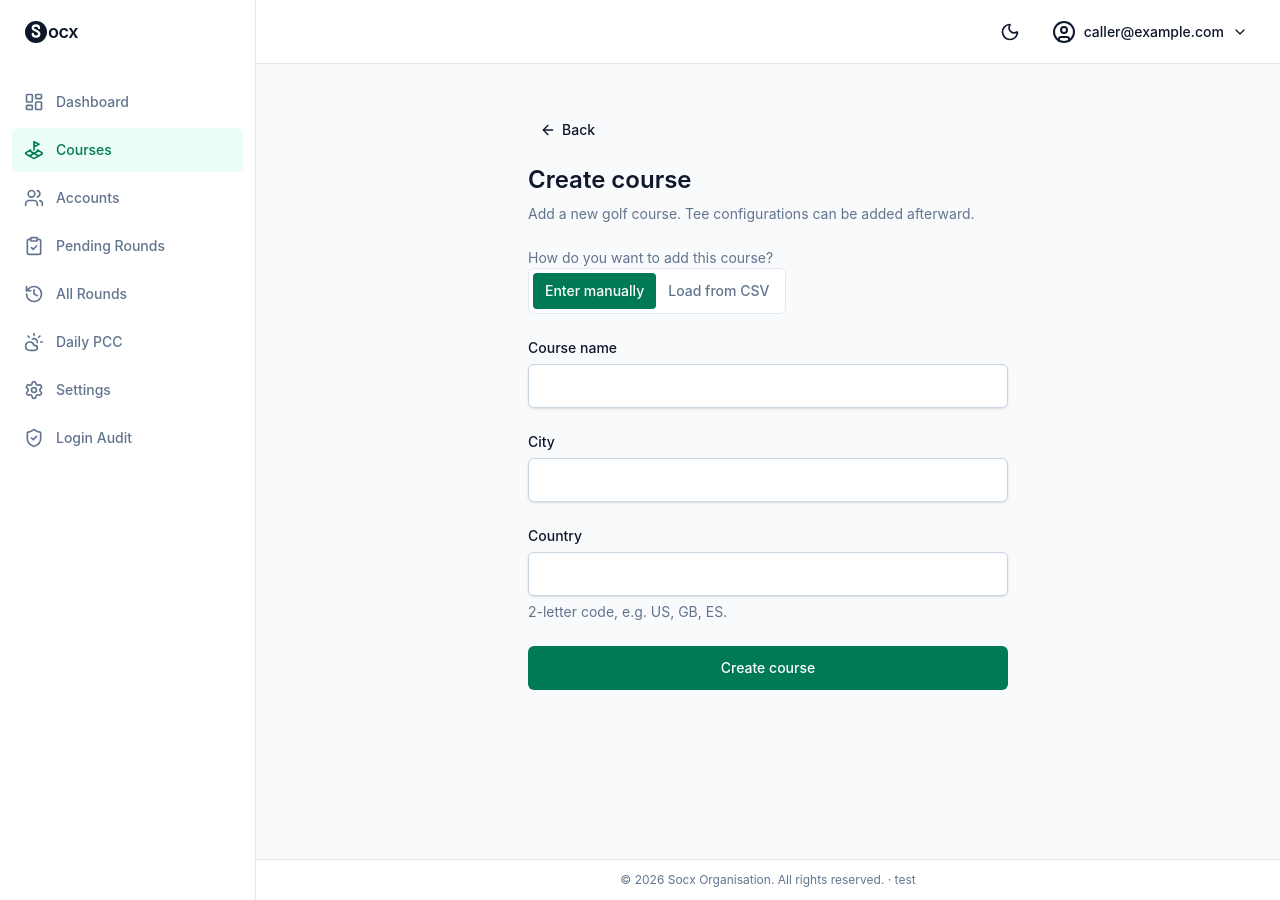
CreateCoursePage › creates a course and navigates to its detail page
The image size is (1280, 900).
Type "Test Course" into the field labelled "Course name" at (768, 386), box [528,364,1008,408]
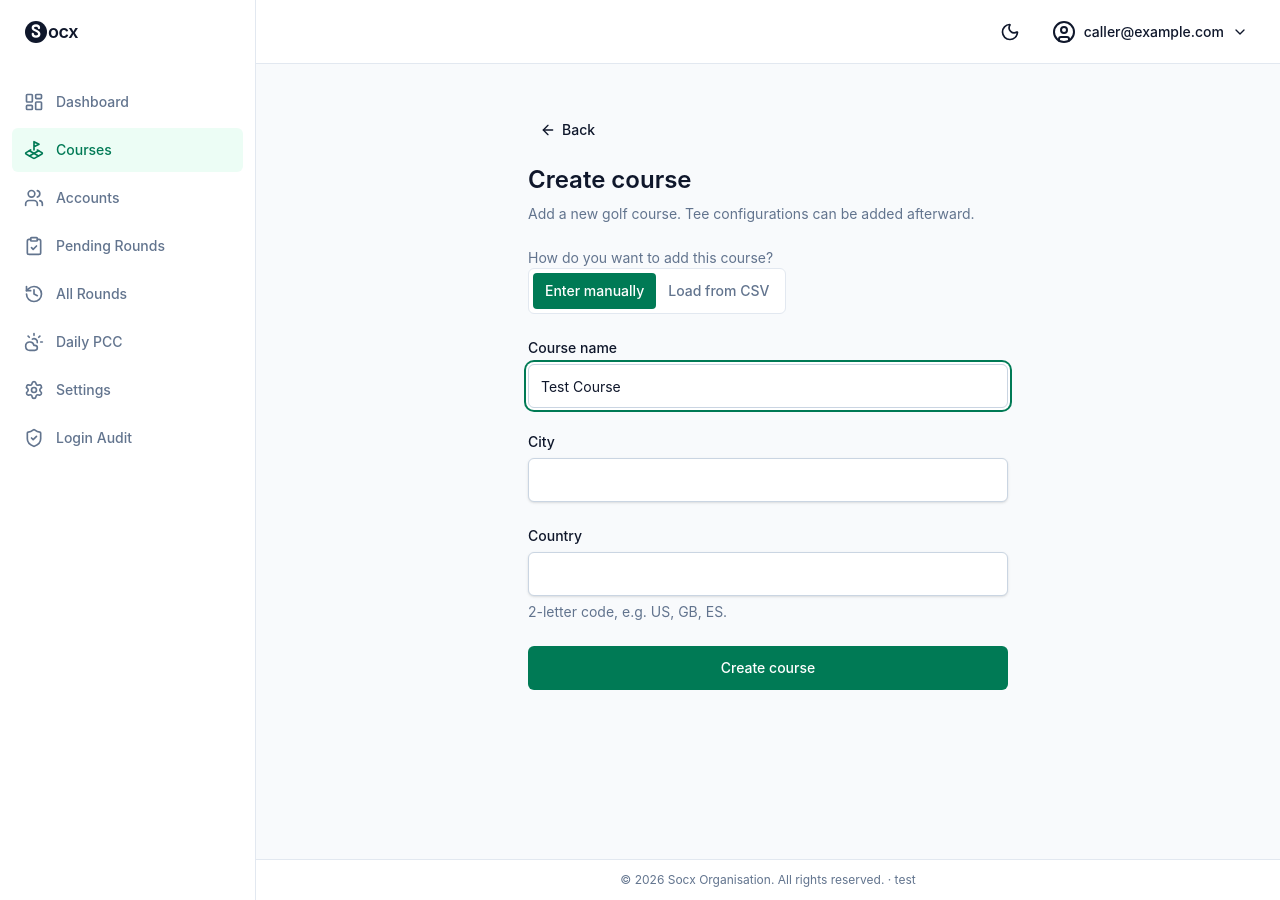
Type "Test City" into the field labelled "City" at (768, 480), box [528,458,1008,502]
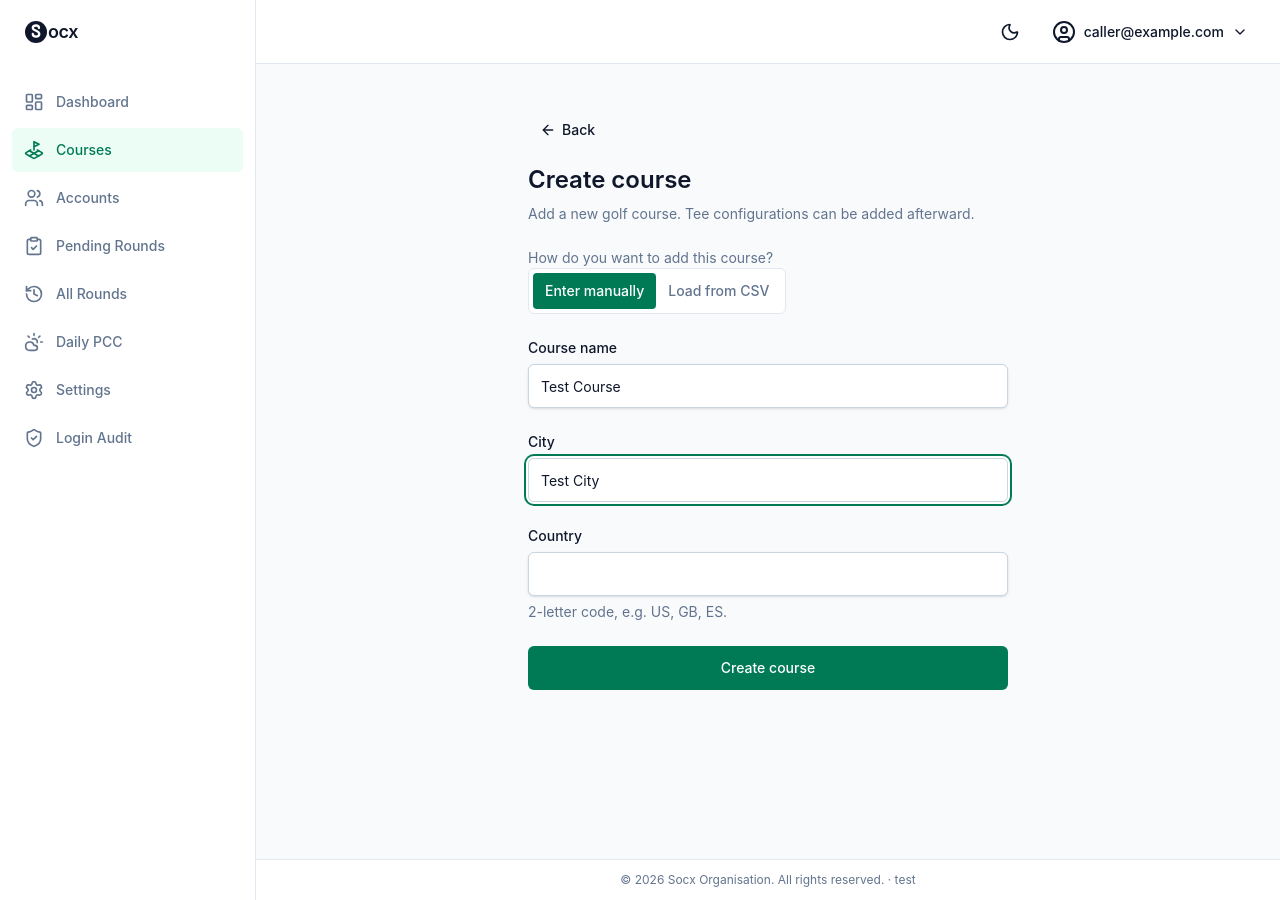
Type "us" into the field labelled "Country" at (768, 574), box [528,552,1008,596]
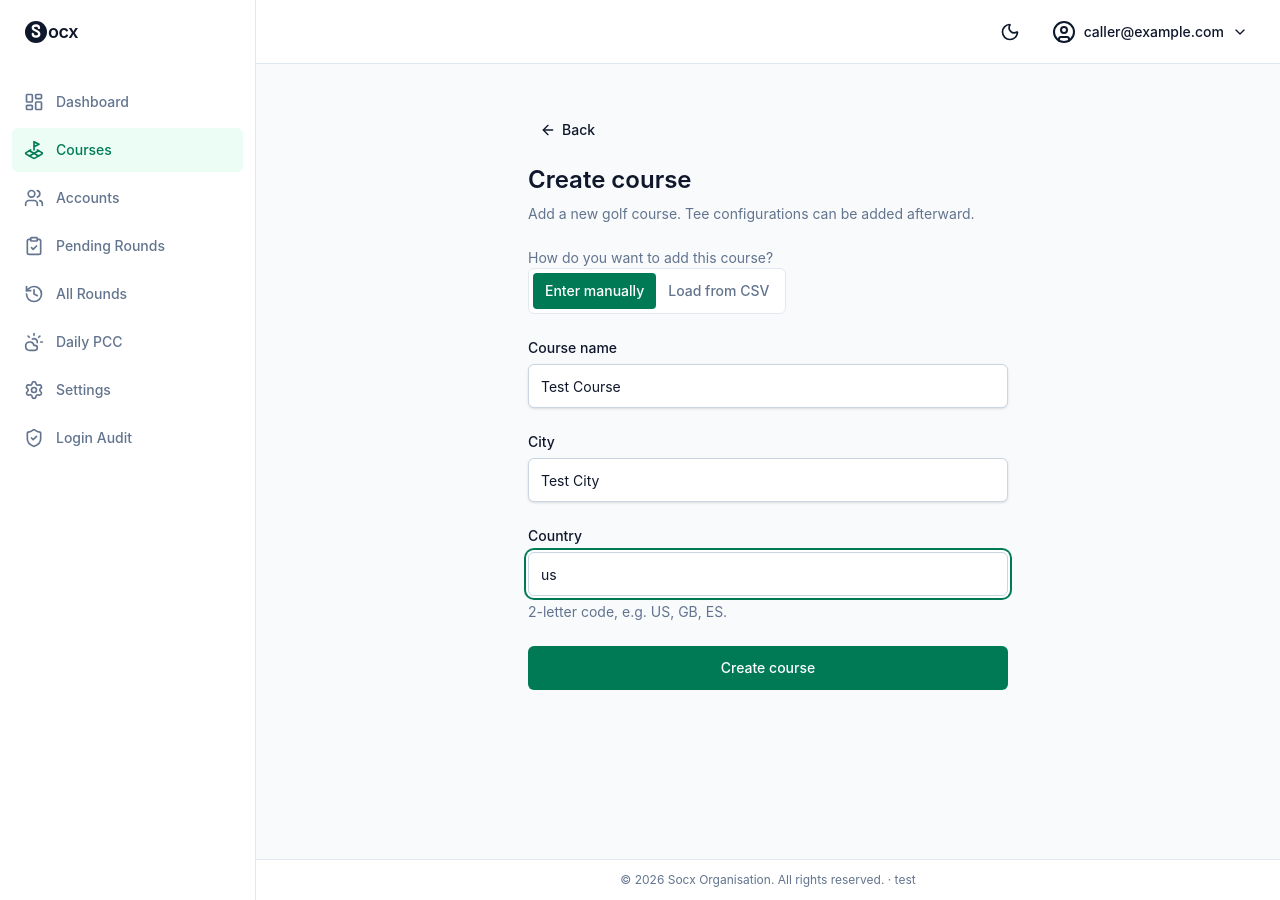
Click the button "Create course" at (768, 668), box [528,646,1008,690]
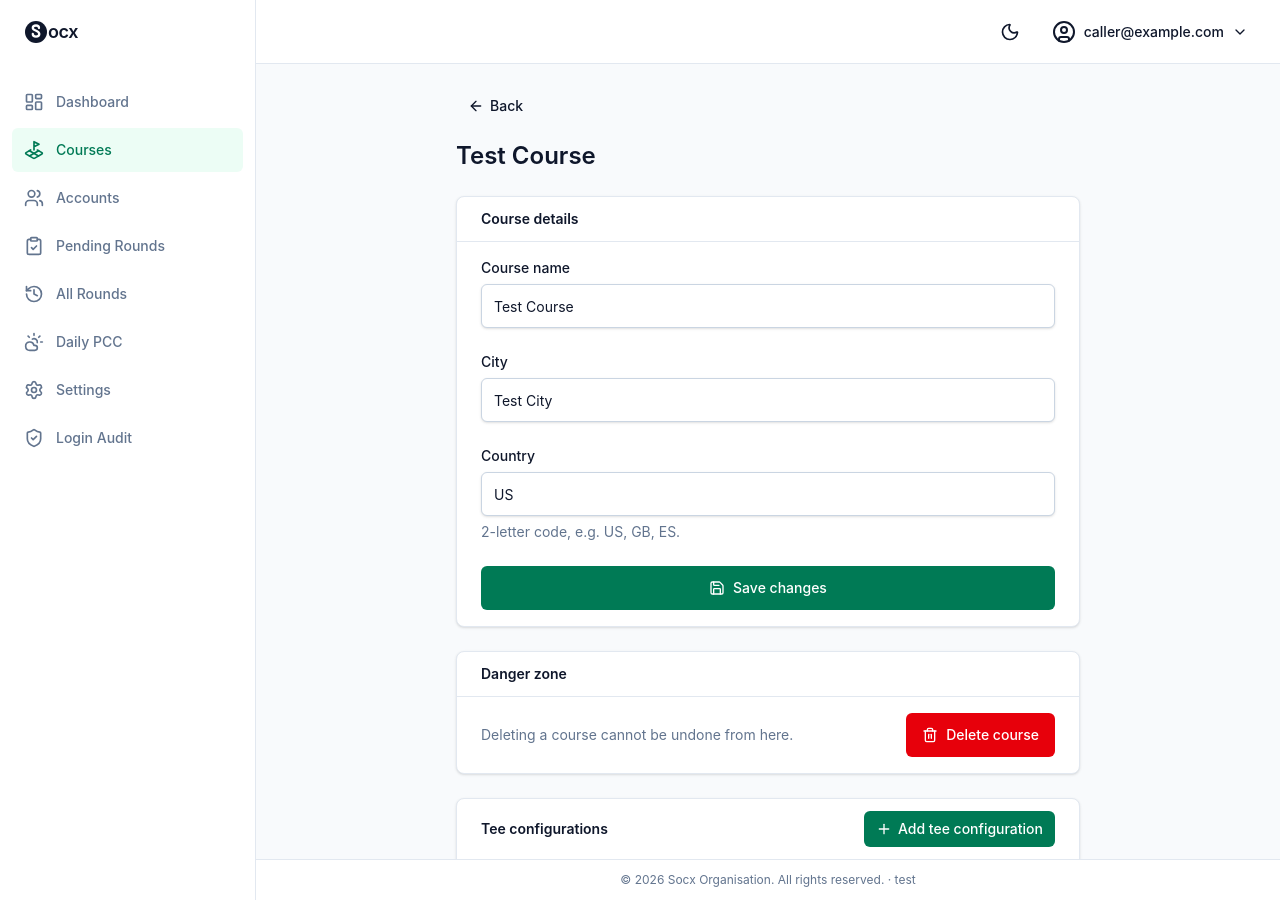
Expected: the heading "Test Course" is shown, [456,141,596,170]
